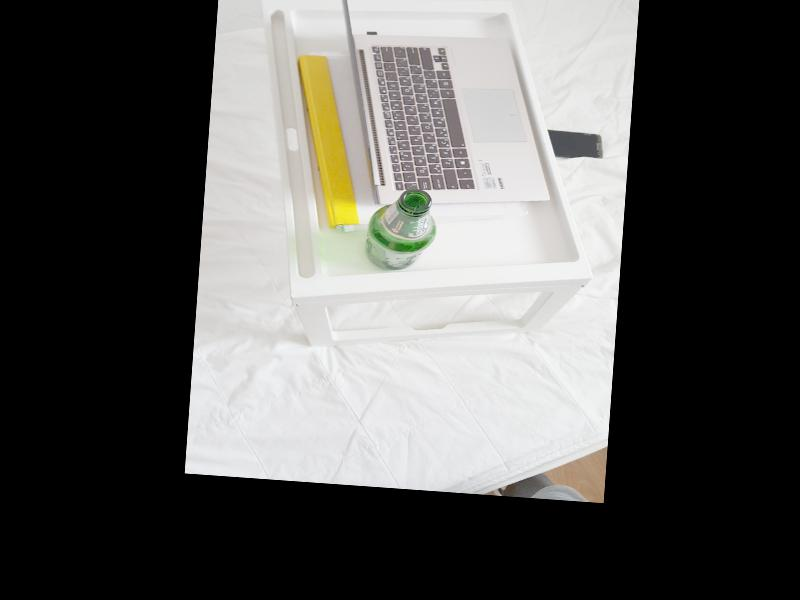Beer: (363, 187, 439, 274)
